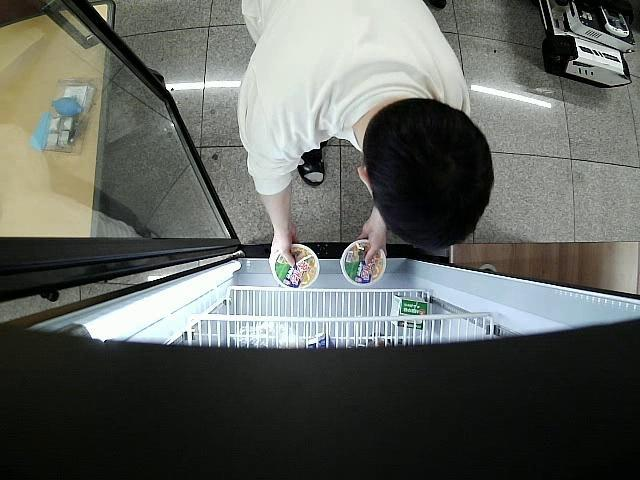09_yukGaeJang: (341, 238, 386, 284), (274, 245, 320, 289)
